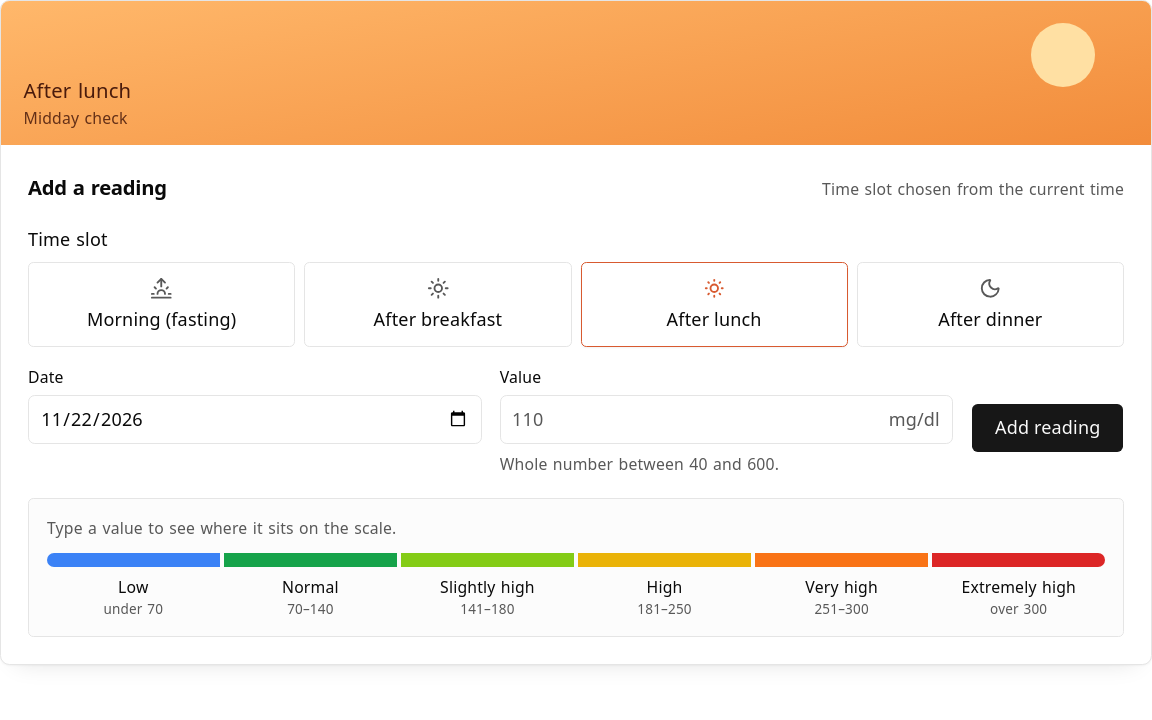
Test case: AddReadingCard: saving › sends the chosen slot, date and value, then confirms and clears the field
This screenshot has width=1152, height=720.
Click the button "After lunch" at (714, 305), box [580,262,848,347]
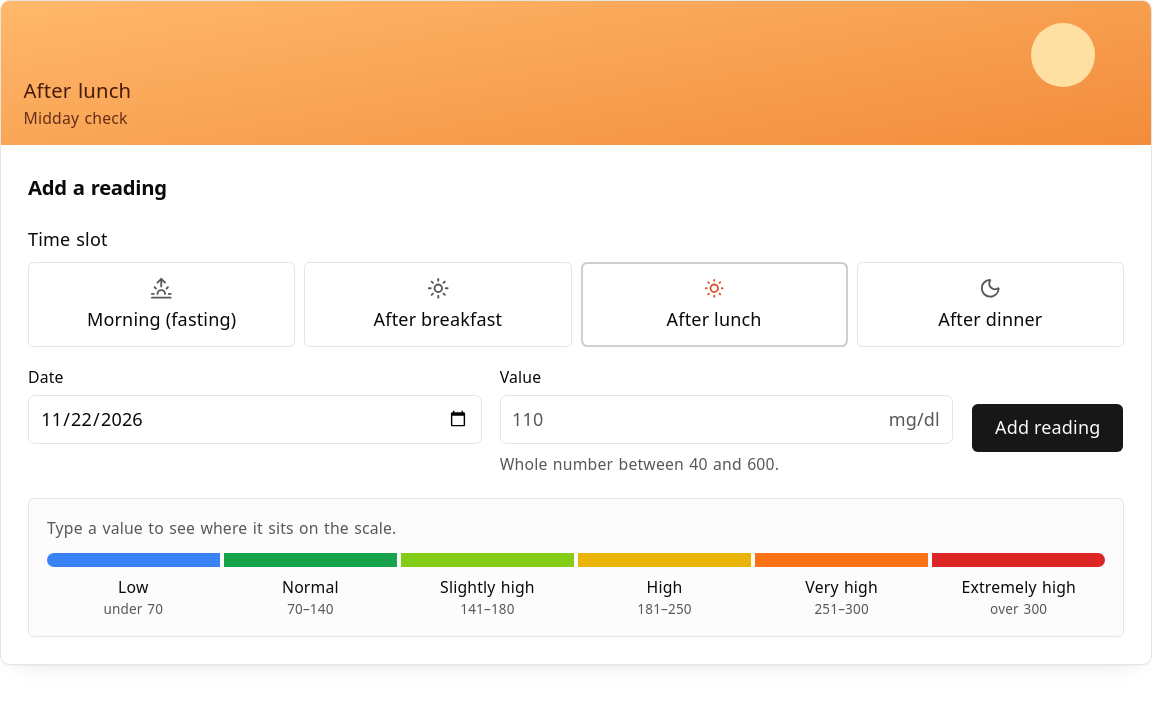
Type "112" into the field labelled "Value" at (727, 419), box [500,394,953,444]
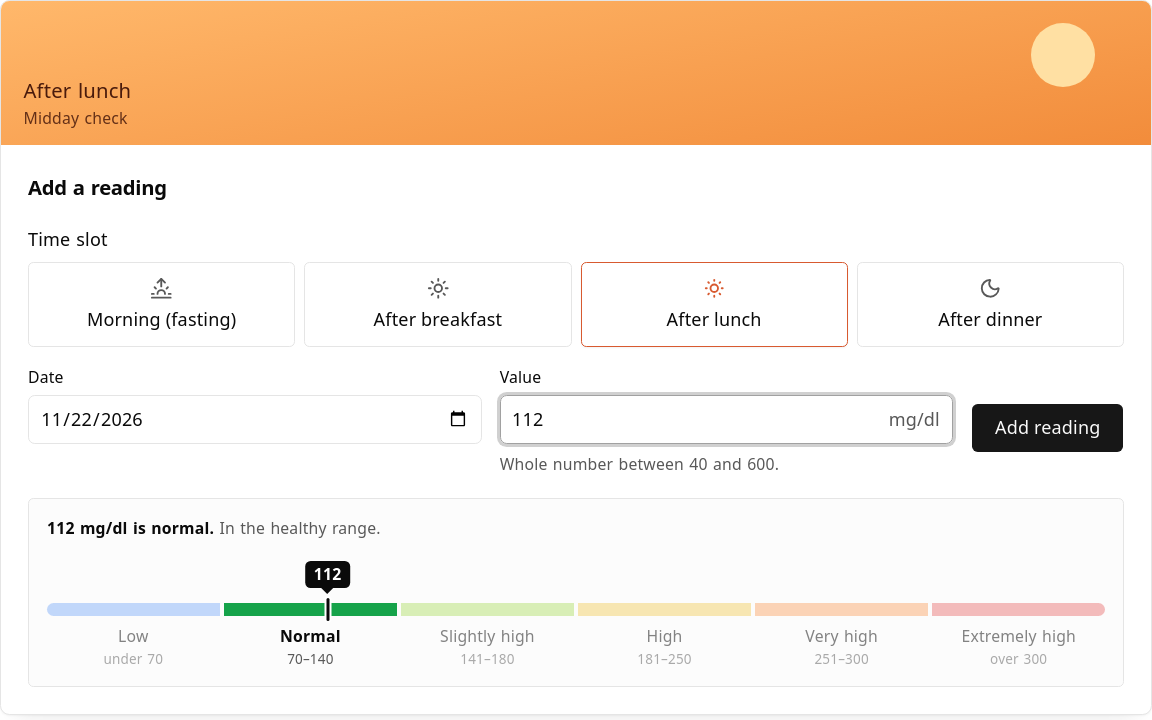
Click the button "Add reading" at (1048, 428), box [972,403,1124,452]
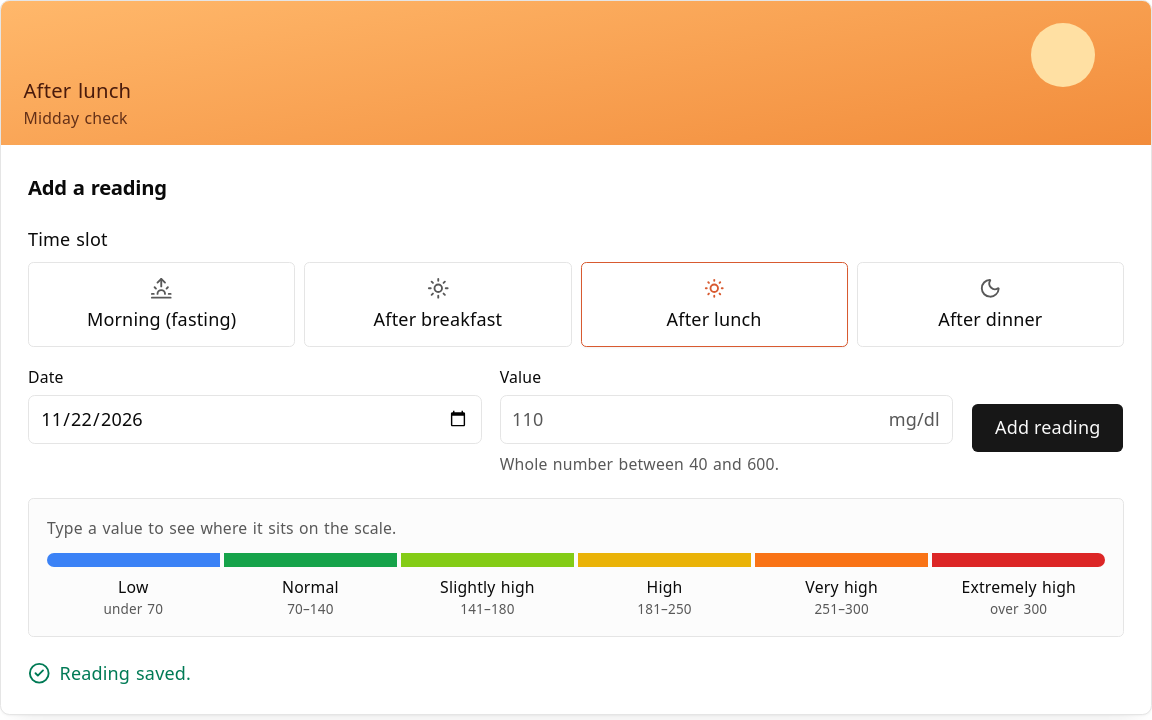
Result: the text "Reading saved." is shown at [28,661,191,685]
Result: the field labelled "Value" is empty at [500,394,953,444]
